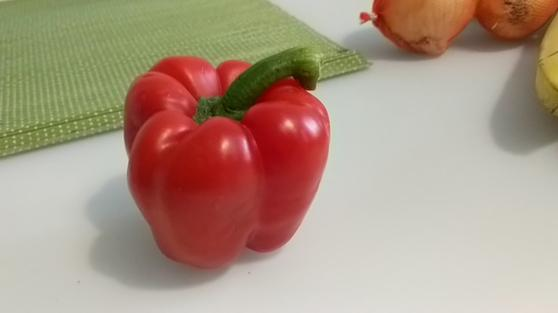onion: (363, 1, 481, 58)
pepper: (125, 45, 331, 270)
